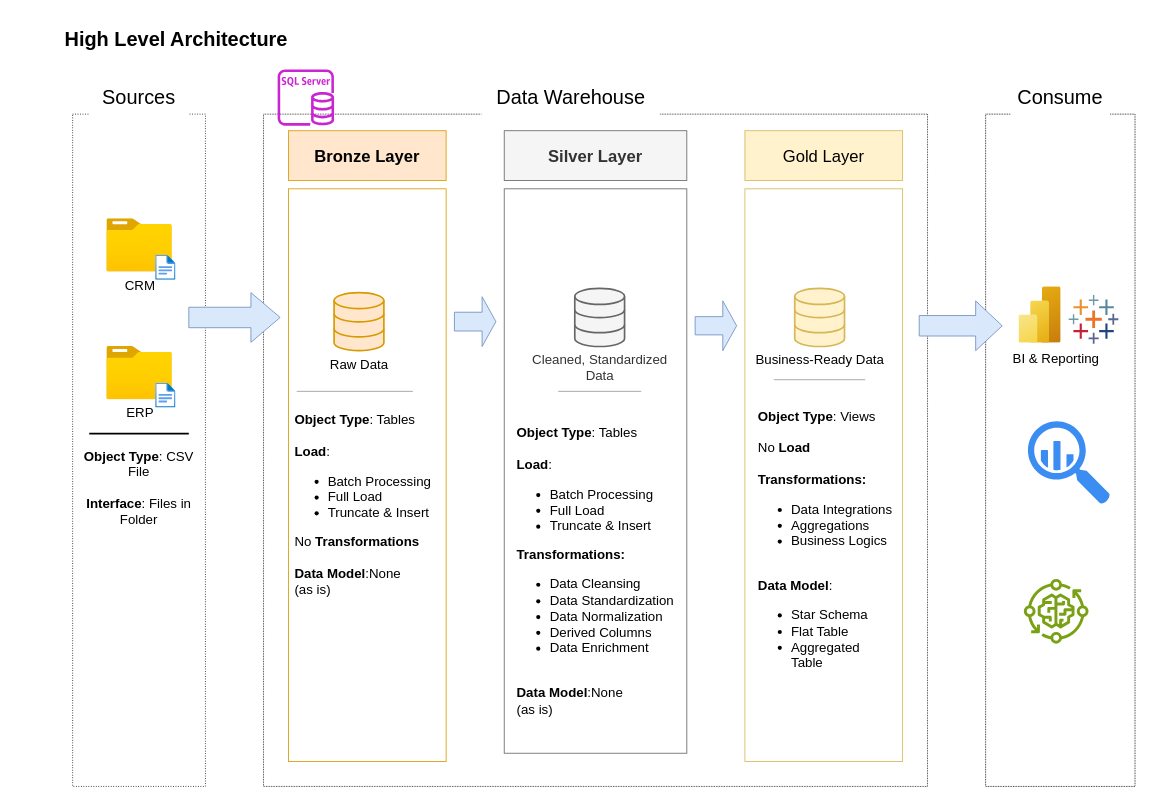
Image size: 1150x801. Some labels were removed from this diagram. Each missing label, with the box of its shape:
Ad-Hoc SQL Queries: (1028, 421, 1110, 504)
Machine Learning: (1023, 579, 1088, 643)
